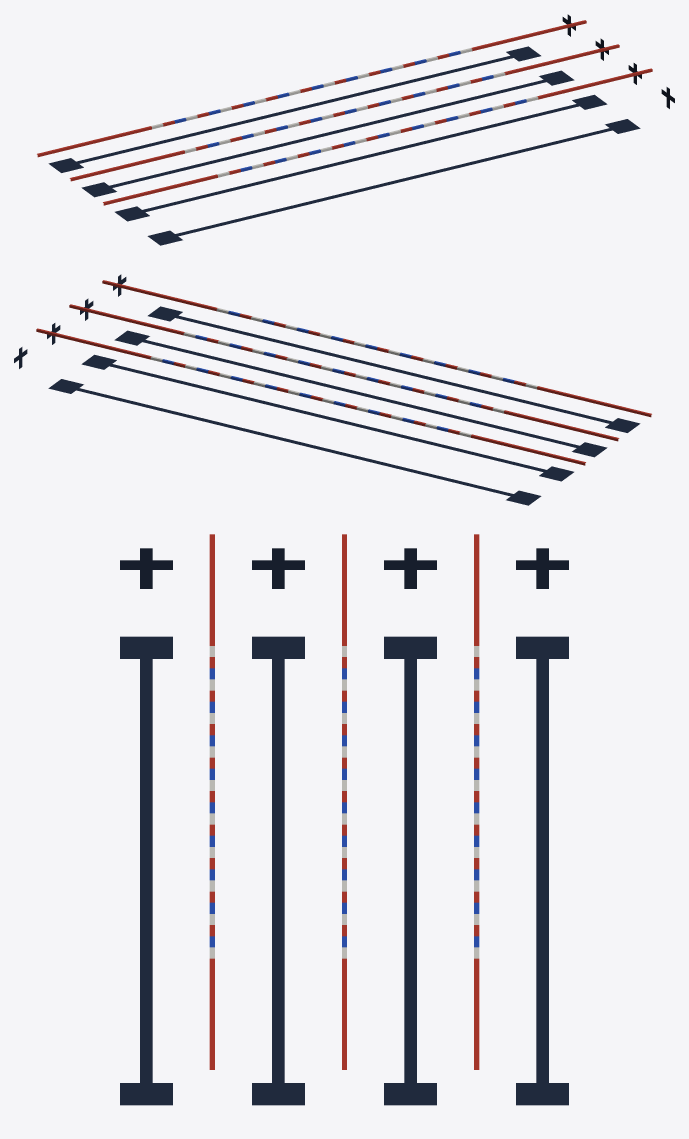
Rendered from sport.pool_lanes.red.glb.
3 views of the same model, one above another, from view 1: azimuth 30°, elevation 25°; view 2: azimuth 150°, elevation 25°; view 3: azimuth 270°, elevation 25° (orthographic). The views are drawn at different scales.
Parts seen in each view (by area): view 1: sport_pool_lanes_red; view 2: sport_pool_lanes_red; view 3: sport_pool_lanes_red.
Boxes of the visible parts, x1,y1,x2,y2 form: sport_pool_lanes_red: [37, 14, 674, 245]; sport_pool_lanes_red: [14, 274, 651, 505]; sport_pool_lanes_red: [120, 534, 568, 1105].
Size of what is drawn, in the model's own units: 24 by 1.44 by 8.5.
